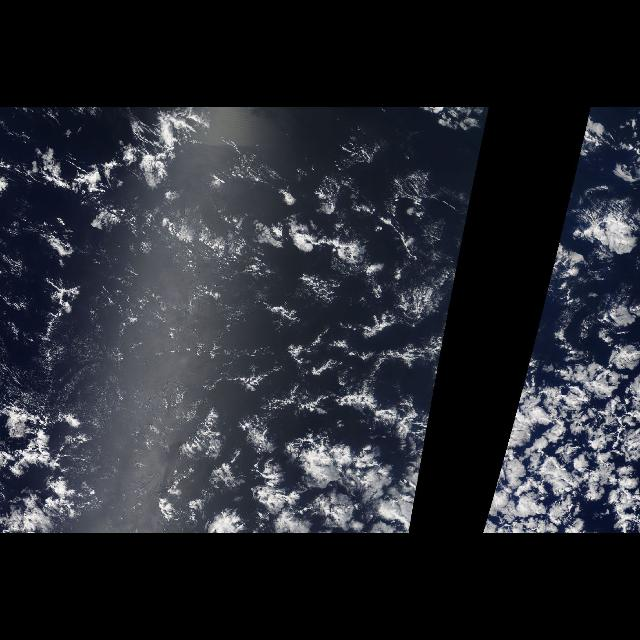Flower: (158, 285, 454, 533), (482, 285, 640, 533)
